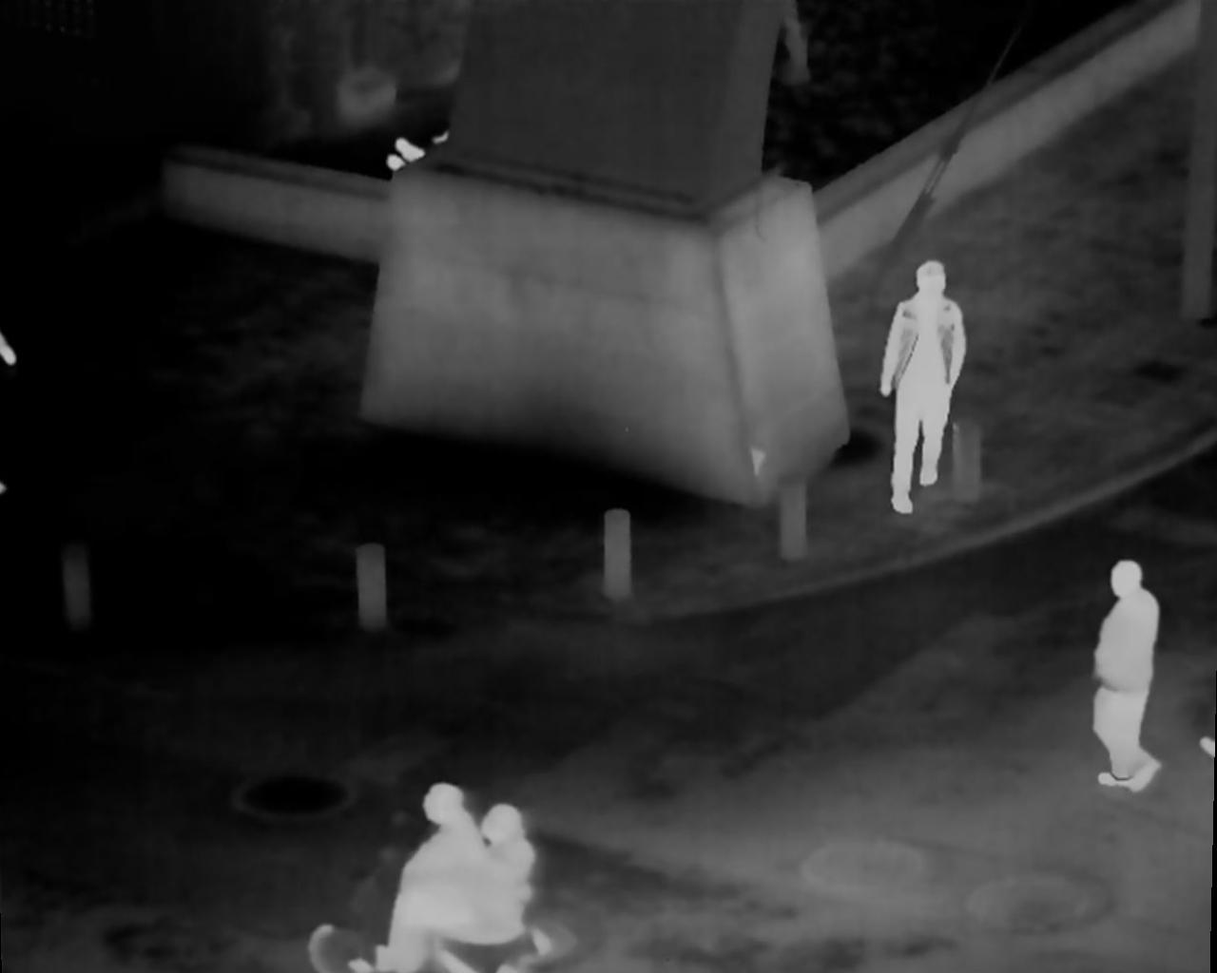person: (881, 258, 972, 521), (1083, 562, 1174, 787), (398, 780, 485, 973), (485, 800, 543, 958)
